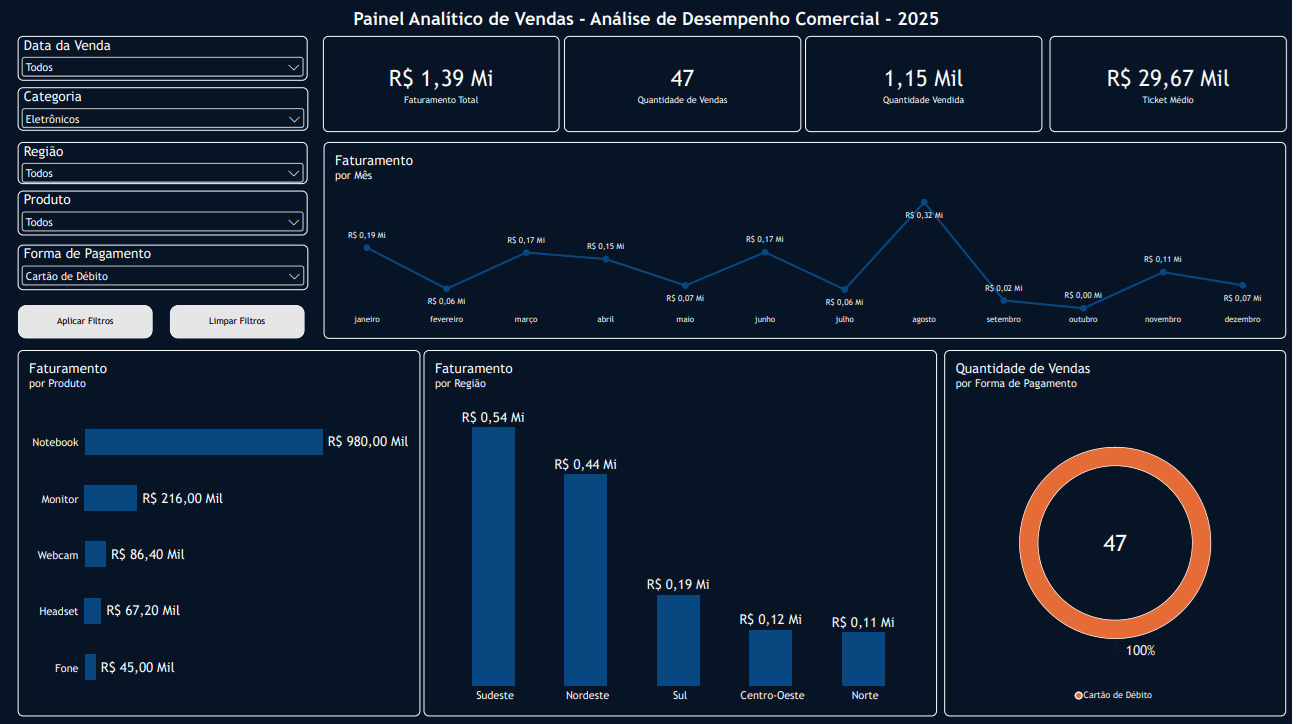

This screenshot's page, from the dashboard's own definition file:
{"tool":"powerbi","page":{"name":"Página 1","canvas":[1920,1080],"ordinal":0},"visuals":[{"type":"card","fields":{"Values":["Medidas.Faturamento_total"]},"box":[481,55.7,350,142.5],"z":0},{"type":"card","fields":{"Values":["Medidas.Quantidade de Vendas"]},"box":[838.2,55.7,351,142.5],"z":1000},{"type":"card","fields":{"Values":["Medidas.Quantidade Vendida"]},"box":[1195.4,55.7,351,142.5],"z":2000},{"type":"card","fields":{"Values":["Medidas.Ticket Médio"]},"box":[1556.6,55.7,351,142.5],"z":3000},{"type":"lineChart","title":"Faturamento","fields":{"Category":["vendas_limpa.Mes_Ano.Variation.Hierarquia de datas.Mês"],"Y":["Medidas.Faturamento Total"]},"box":[481.6,212.6,1425.9,291.9],"z":4000},{"type":"clusteredBarChart","title":"Faturamento","fields":{"Category":["vendas_limpa.Produto"],"Y":["Medidas.Faturamento Total"]},"box":[29.2,521.2,596.2,542],"z":5000},{"type":"clusteredColumnChart","title":"Faturamento","fields":{"Category":["vendas_limpa.Regiao"],"Y":["Medidas.Faturamento Total"]},"box":[629.6,521.2,760.9,542],"z":6000},{"type":"slicer","fields":{"Values":["vendas_limpa.Data_Venda"]},"box":[28.9,55.7,429.4,66.1],"z":7000},{"type":"slicer","fields":{"Values":["vendas_limpa.Categoria"]},"box":[29.5,131.6,430,64.8],"z":8000},{"type":"slicer","fields":{"Values":["vendas_limpa.Regiao"]},"box":[28.9,212.6,429.4,61.9],"z":9000},{"type":"slicer","fields":{"Values":["vendas_limpa.Produto"]},"box":[28.9,284.9,429.4,66.1],"z":10000},{"type":"donutChart","title":"Quantidade de Vendas","fields":{"Category":["vendas_limpa.Forma_Pagamento"],"Y":["Medidas.Quantidade de Vendas"]},"box":[1400.9,521.2,506.6,542],"z":11000},{"type":"textbox","box":[487.7,13.7,944.5,82.5],"z":12000},{"type":"slicer","fields":{"Values":["vendas_limpa.Forma_Pagamento"]},"box":[29.5,365.2,430,66.8],"z":13000},{"type":"actionButton","box":[28.9,454.2,200,50],"z":14000},{"type":"actionButton","box":[253.9,454.2,200.3,49.5],"z":15000}]}

Visuals, with their boxes in screenshot pixels (x1, y1, x2, y2), scaled from the page's 1920x1080 canvas onto the 1316x724 screenshot:
card - Medidas.Faturamento_total: l=330, t=37, r=570, b=133
card - Medidas.Quantidade de Vendas: l=575, t=37, r=815, b=133
card - Medidas.Quantidade Vendida: l=819, t=37, r=1060, b=133
card - Medidas.Ticket Médio: l=1067, t=37, r=1308, b=133
"Faturamento" lineChart: l=330, t=143, r=1307, b=338
"Faturamento" clusteredBarChart: l=20, t=349, r=429, b=713
"Faturamento" clusteredColumnChart: l=432, t=349, r=953, b=713
slicer - vendas_limpa.Data_Venda: l=20, t=37, r=314, b=82
slicer - vendas_limpa.Categoria: l=20, t=88, r=315, b=132
slicer - vendas_limpa.Regiao: l=20, t=143, r=314, b=184
slicer - vendas_limpa.Produto: l=20, t=191, r=314, b=235
"Quantidade de Vendas" donutChart: l=960, t=349, r=1307, b=713
textbox: l=334, t=9, r=982, b=64
slicer - vendas_limpa.Forma_Pagamento: l=20, t=245, r=315, b=290
actionButton: l=20, t=304, r=157, b=338
actionButton: l=174, t=304, r=311, b=338
